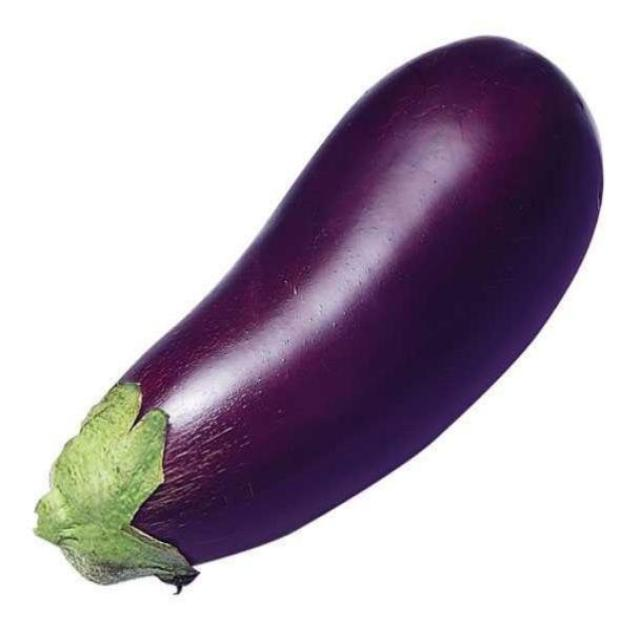eggplant: (37, 38, 605, 604)
